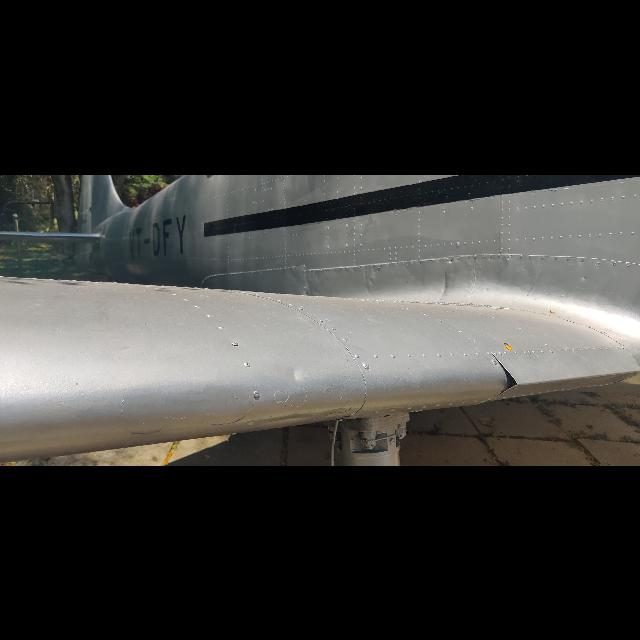dent: (282, 360, 308, 388), (575, 268, 595, 286)
